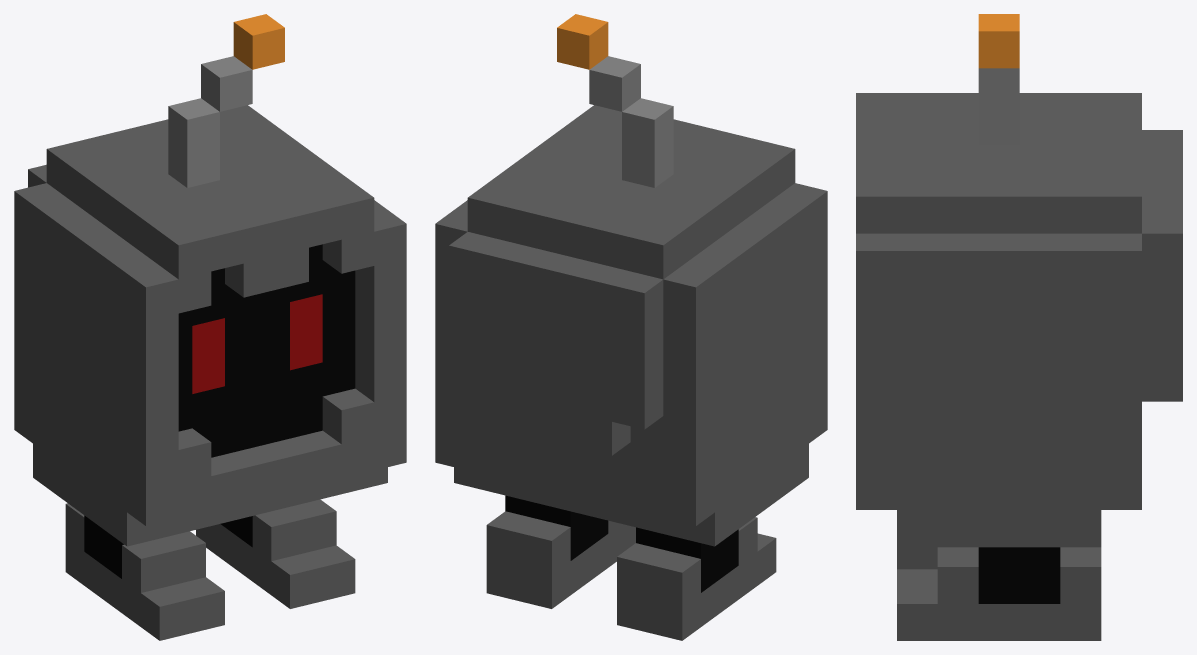
The model's file is inimigobomba.obj.
The picture shows the model from 3 angles, left to right: view 1: azimuth 30°, elevation 25°; view 2: azimuth 150°, elevation 25°; view 3: azimuth 270°, elevation 25°; orthographic projection. The views are drawn at different scales.
Bounding box in the file's own units: 0.8 × 1.6 × 0.8.
Materials: 1 (1 with a texture image).
